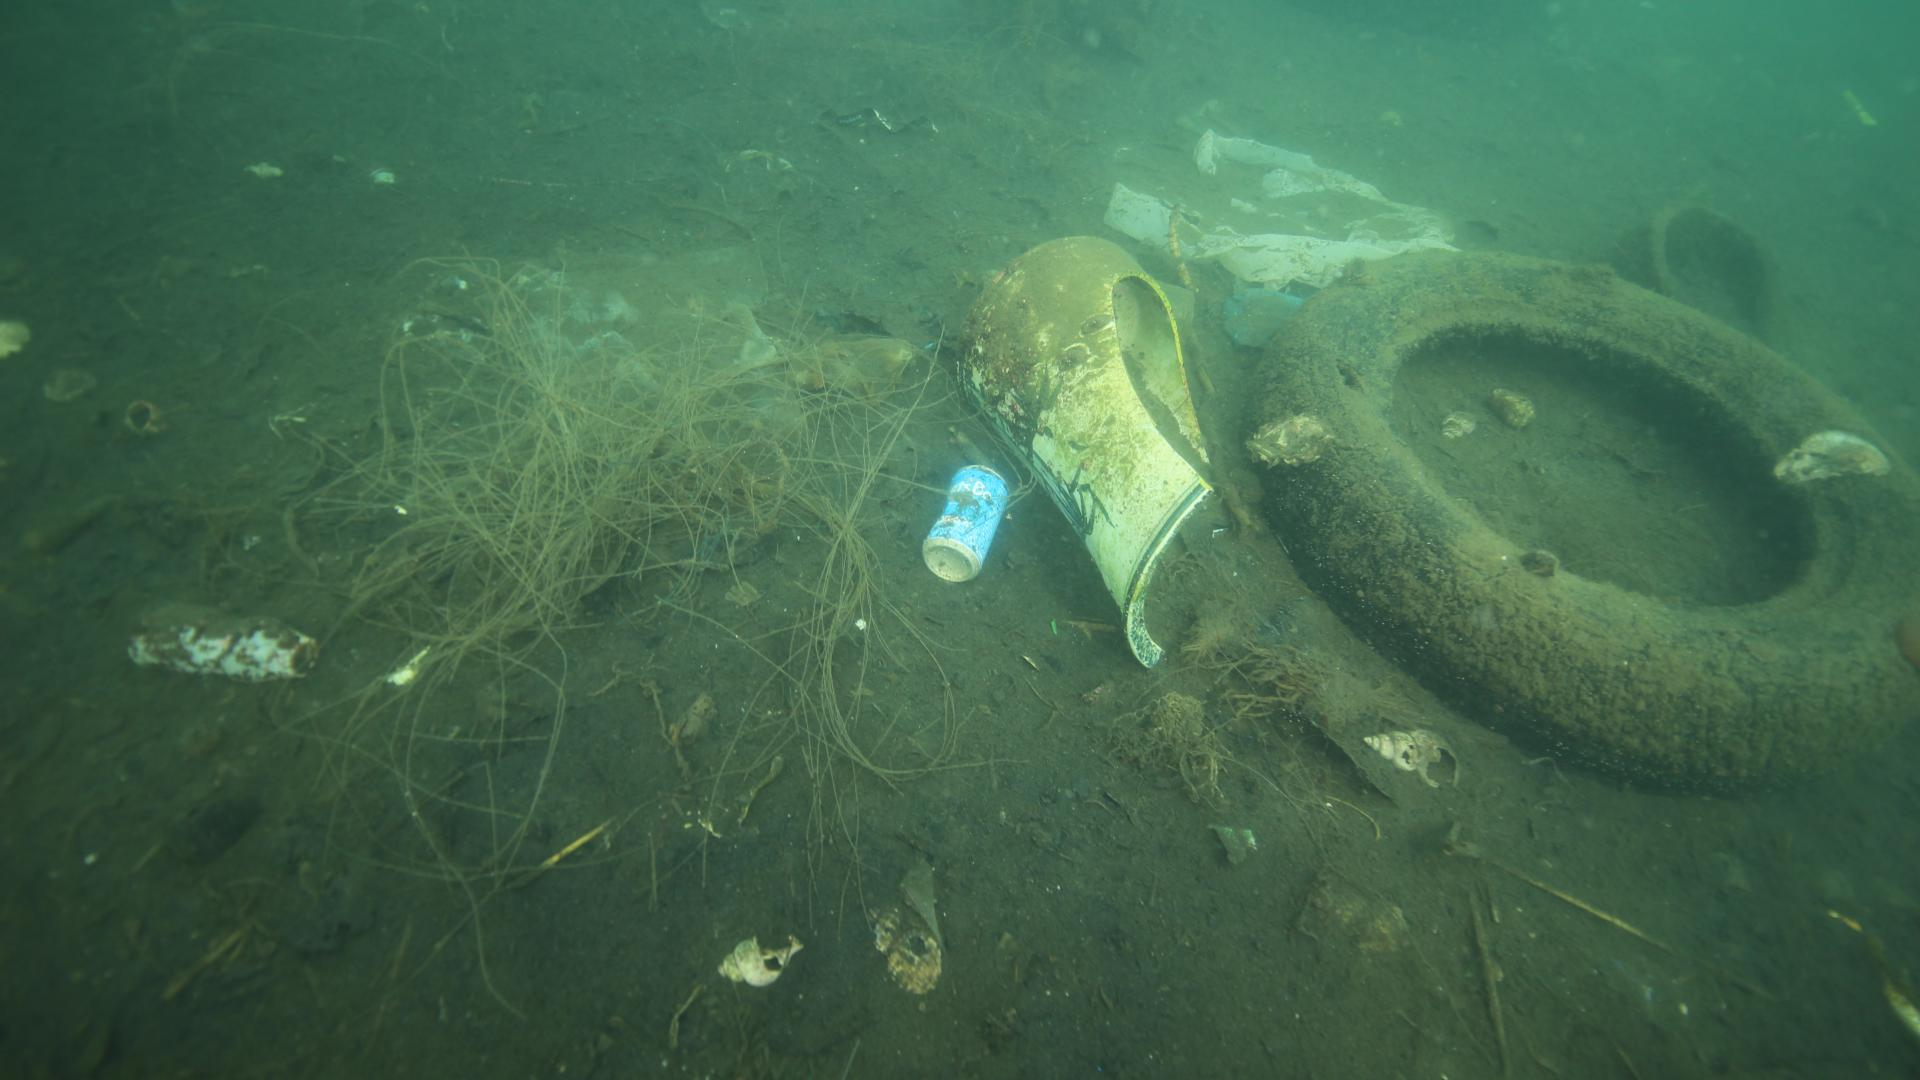tire: (1236, 248, 1920, 796)
